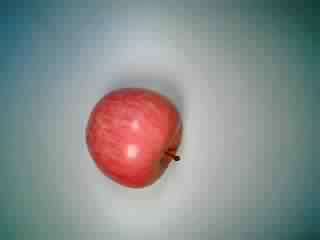apple: (80, 85, 184, 189)
